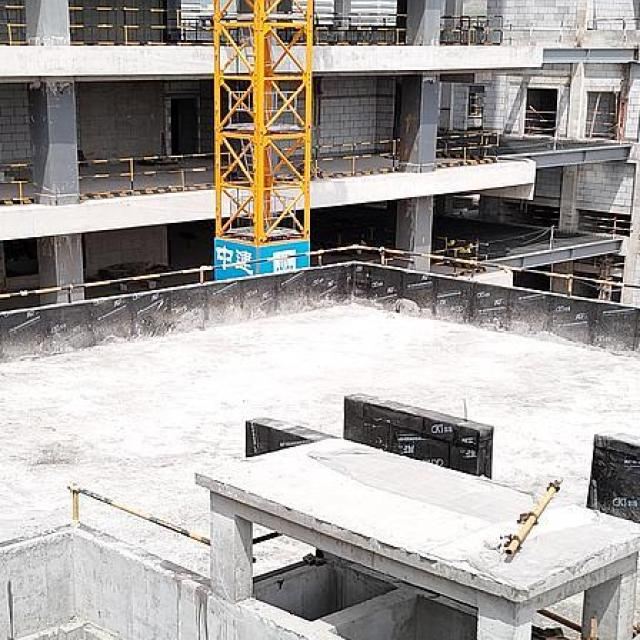edge_guardrail: (0, 242, 640, 307), (70, 482, 210, 547), (77, 152, 214, 198), (69, 6, 214, 45), (310, 140, 401, 179), (313, 11, 408, 45), (434, 131, 499, 166), (440, 15, 503, 45), (1, 164, 34, 205), (505, 26, 579, 44), (432, 236, 478, 260), (502, 204, 559, 222), (578, 214, 632, 232), (586, 112, 616, 137), (587, 17, 640, 30), (525, 110, 556, 131), (468, 105, 483, 119)
